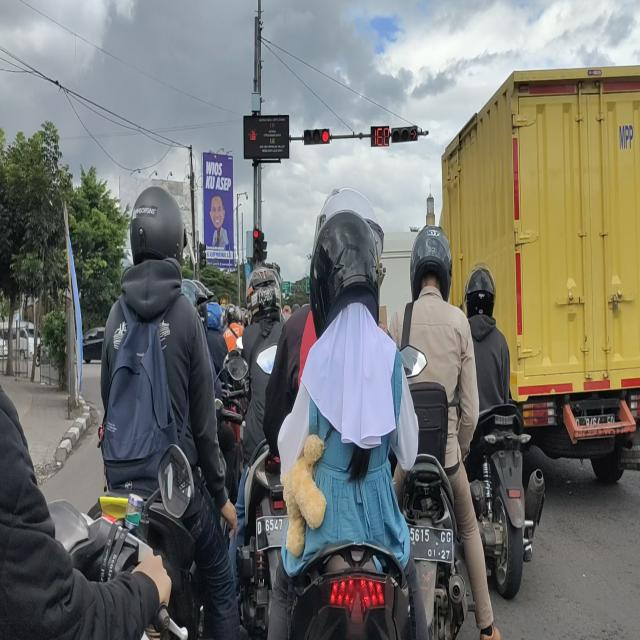helmet: (311, 218, 383, 316), (131, 187, 186, 269), (412, 221, 452, 300), (247, 267, 284, 315), (465, 270, 495, 319), (196, 279, 210, 326), (184, 280, 200, 312), (226, 304, 240, 328), (212, 300, 222, 329)
